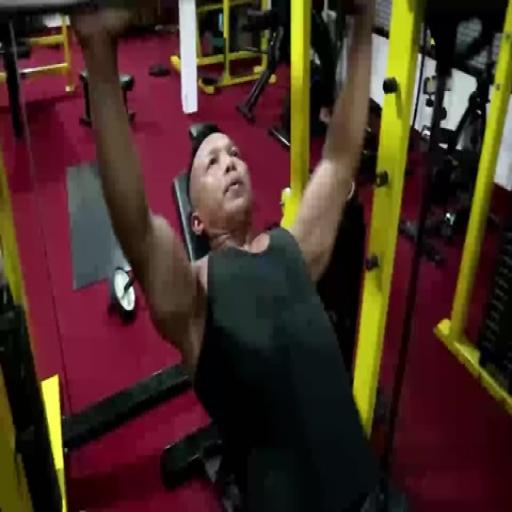exercise: (66, 0, 388, 511)
